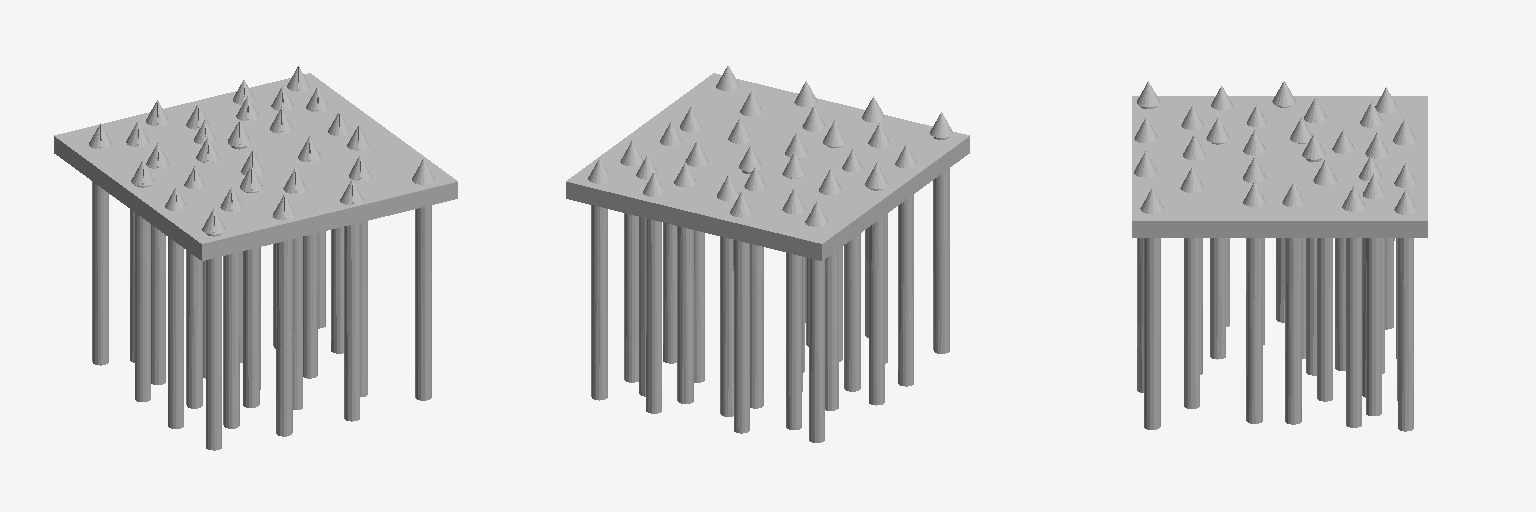
File: SpikeTrap.obj
3 renders of one model, left to right at view 1: azimuth 30°, elevation 25°; view 2: azimuth 150°, elevation 25°; view 3: azimuth 270°, elevation 25°, orthographic.
Parts seen in each view (by area): view 1: Cube; view 2: Cube; view 3: Cube.
Boxes of the visible parts, <box> form: Cube: <box>54,66,457,450</box>; Cube: <box>566,66,969,442</box>; Cube: <box>1132,81,1427,431</box>.
Bounding box in the file's own units: 2 × 1.83 × 2.